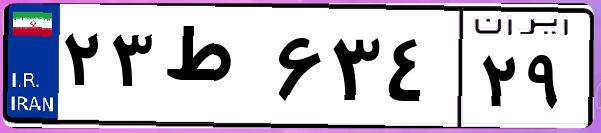2: (57, 26, 110, 100), (475, 38, 525, 113)
3: (330, 28, 385, 110), (110, 28, 158, 98)
4: (385, 28, 445, 110)
6: (270, 28, 330, 110)
9: (525, 38, 570, 115)
ط: (158, 20, 270, 120)
